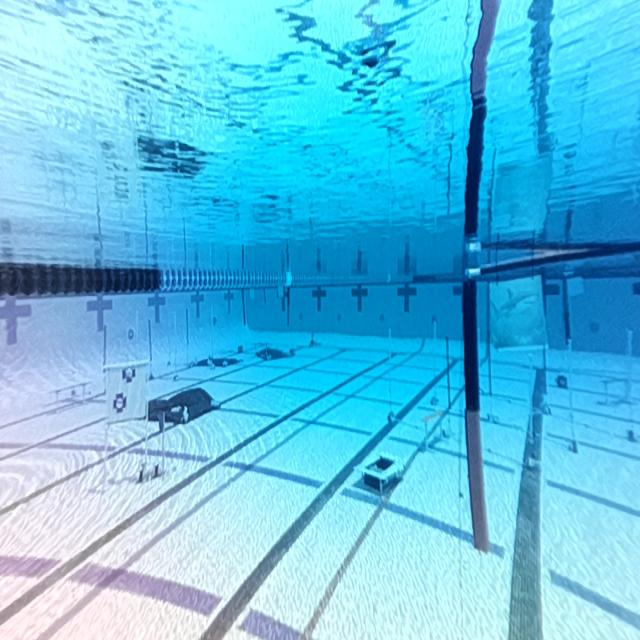round_nose: (492, 284, 548, 334)
